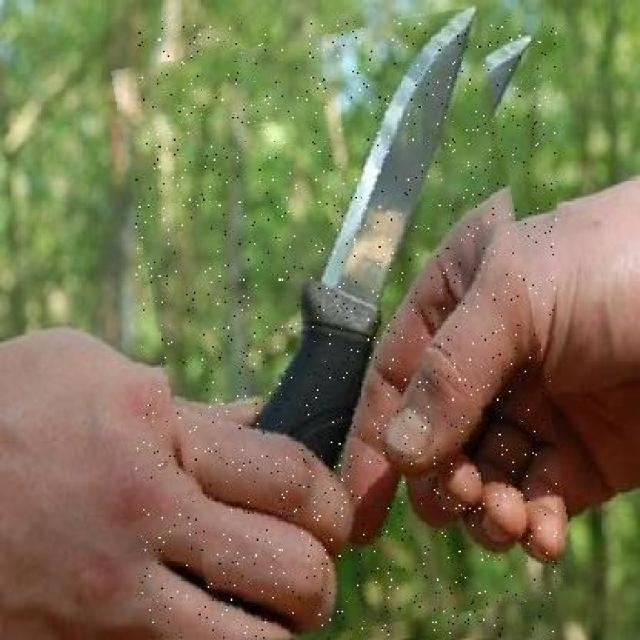knife: (135, 19, 557, 638)
